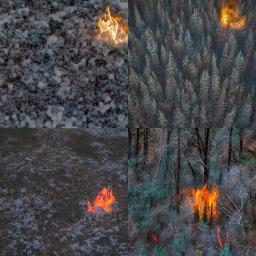Small fire: (181, 179, 229, 224), (95, 3, 133, 47), (219, 1, 254, 36), (80, 186, 123, 214)
